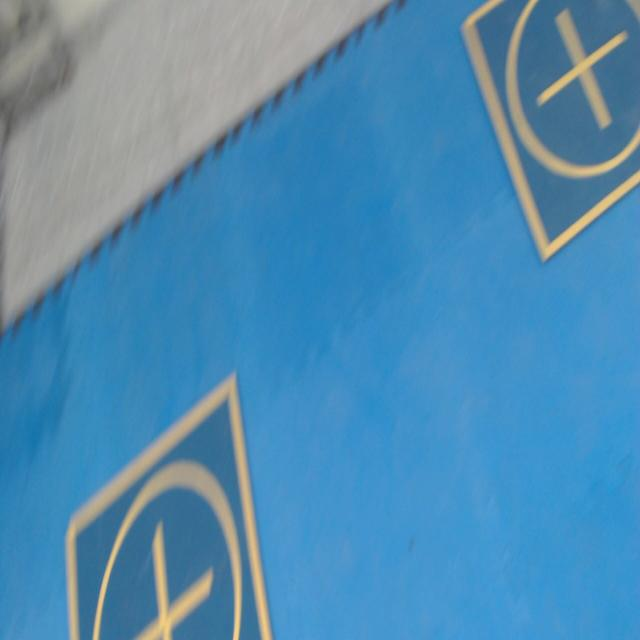base_pouso: (64, 368, 274, 639), (457, 0, 640, 268)
